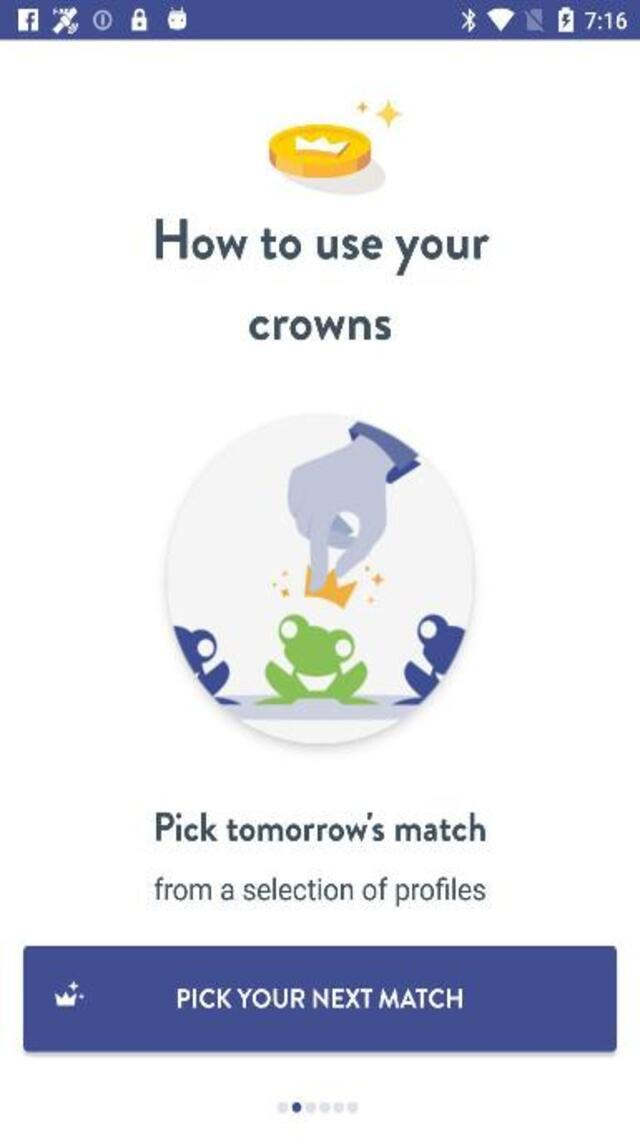Icon: (46, 977, 86, 1012)
Image: (162, 414, 476, 745), (268, 97, 404, 195)
Text: (154, 217, 490, 276), (156, 809, 487, 841), (153, 876, 485, 906), (172, 986, 469, 1013), (250, 314, 392, 340)
TextButton: (22, 946, 616, 1053)
